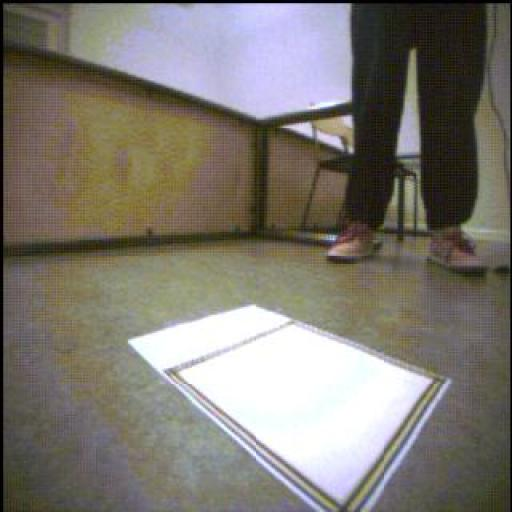Pad: (131, 307, 451, 512)
